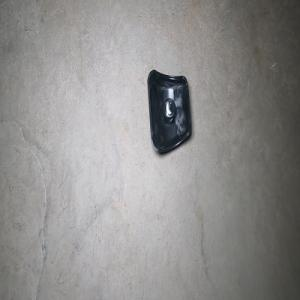LuggagePart: (146, 68, 192, 154)
